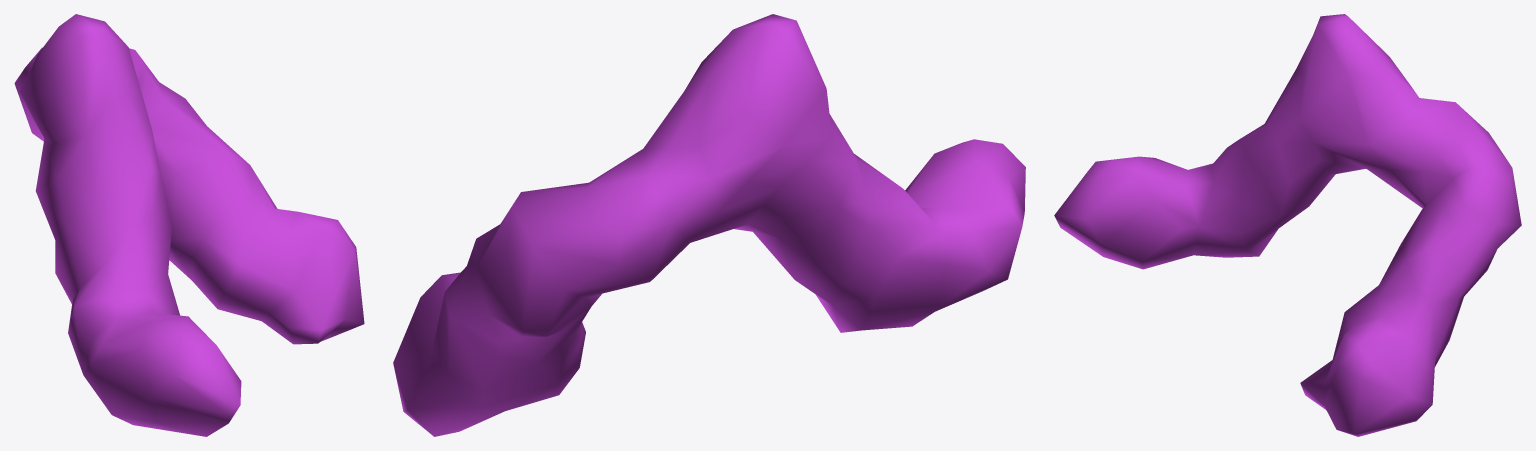
Rendered from HIV1_VPR_1esx_0_1_0.dae.
The picture shows the model from 3 angles, left to right: view 1: azimuth 30°, elevation 25°; view 2: azimuth 150°, elevation 25°; view 3: azimuth 270°, elevation 25°; orthographic projection. The views are drawn at different scales.
Visible parts, largest first — view 1: CoarseMS_1esx; view 2: CoarseMS_1esx; view 3: CoarseMS_1esx.
Boxes of the visible parts, box(x1,y1,x2,y2) form: CoarseMS_1esx: box(14, 14, 364, 436); CoarseMS_1esx: box(393, 14, 1025, 436); CoarseMS_1esx: box(1054, 14, 1521, 436).
Size of the model in its own units: 58.79 by 55.02 by 74.32.
